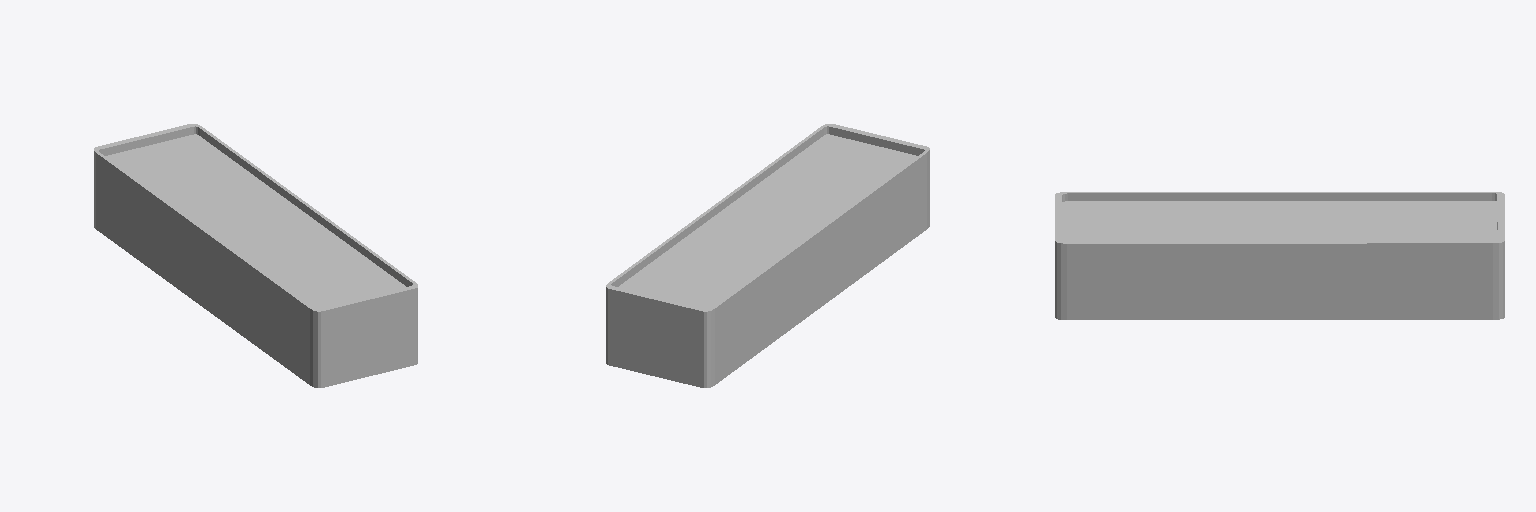
File: garden 1.obj
3 views of the same model, side by side, from view 1: azimuth 30°, elevation 25°; view 2: azimuth 150°, elevation 25°; view 3: azimuth 270°, elevation 25° (orthographic).
Parts seen in each view (by area): view 1: pCube806 group35; view 2: pCube806 group35; view 3: pCube806 group35.
Part boxes in pixels (left/top/right/bottom): pCube806 group35: left=94, top=124, right=417, bottom=387; pCube806 group35: left=606, top=124, right=929, bottom=387; pCube806 group35: left=1055, top=192, right=1504, bottom=319.
Bounding box in the file's own units: 10.7 × 7.33 × 39.